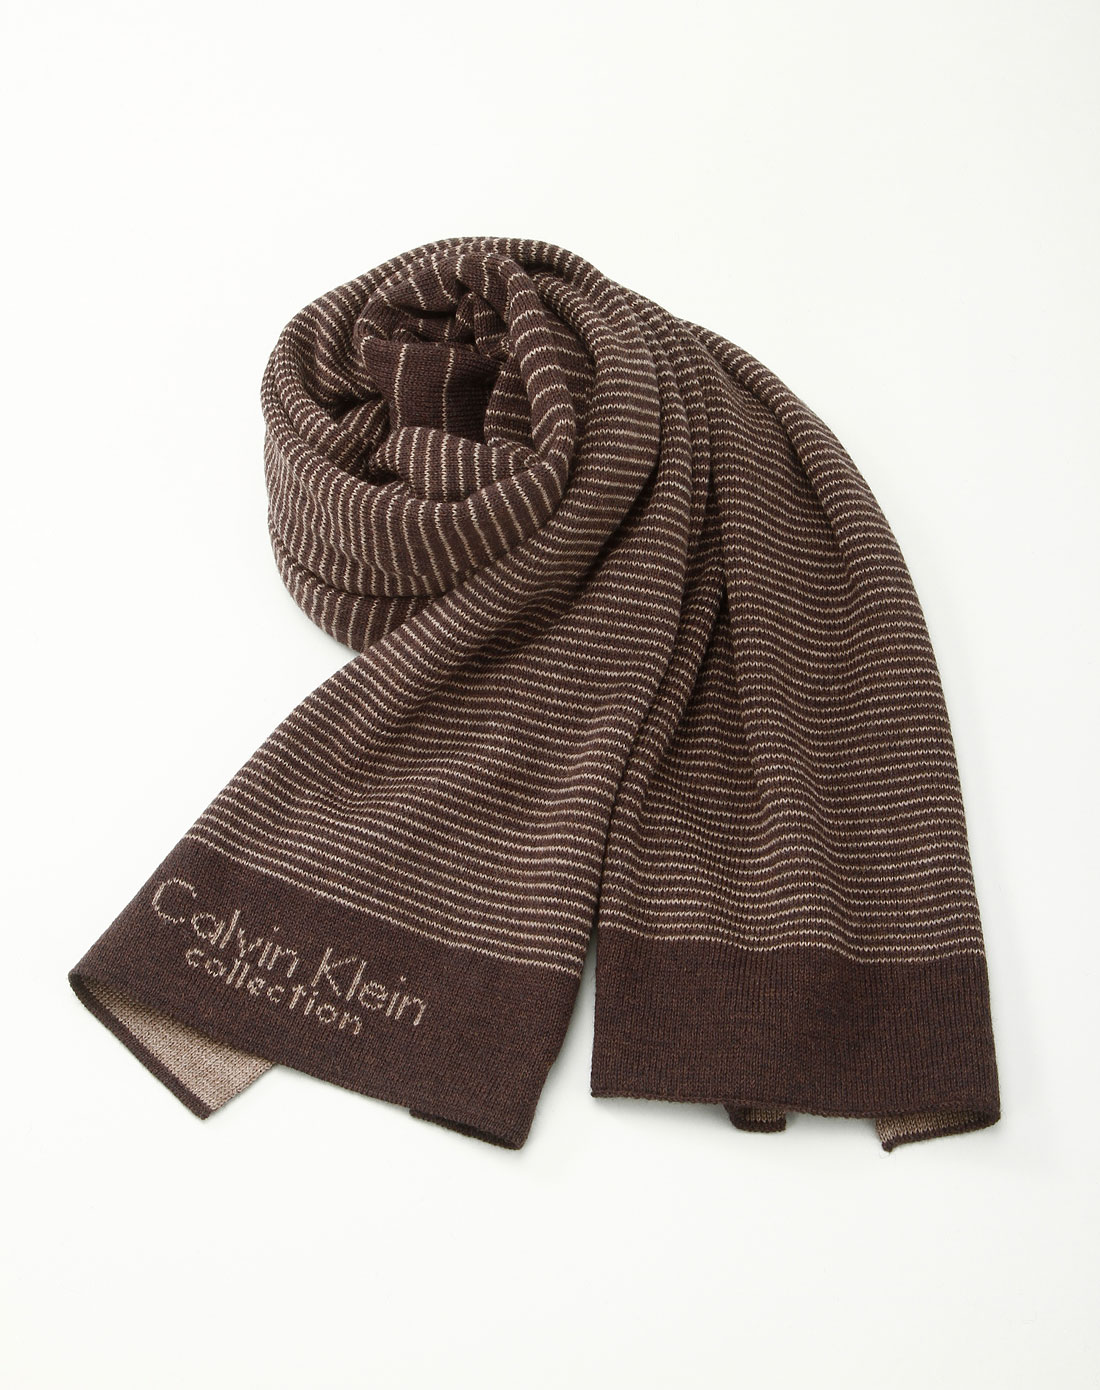flexible: (62, 232, 1004, 1146)
